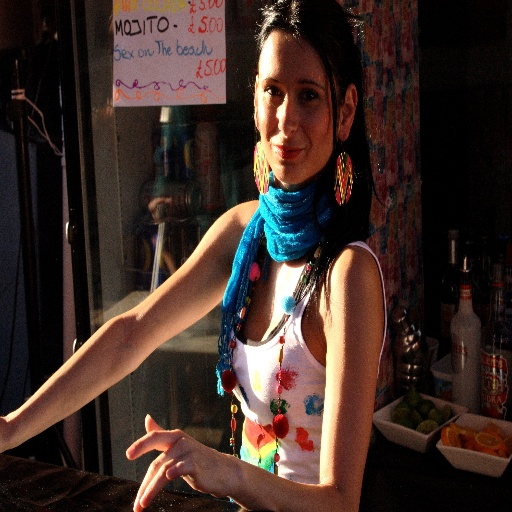hand: (124, 420, 262, 494), (0, 417, 5, 454)
